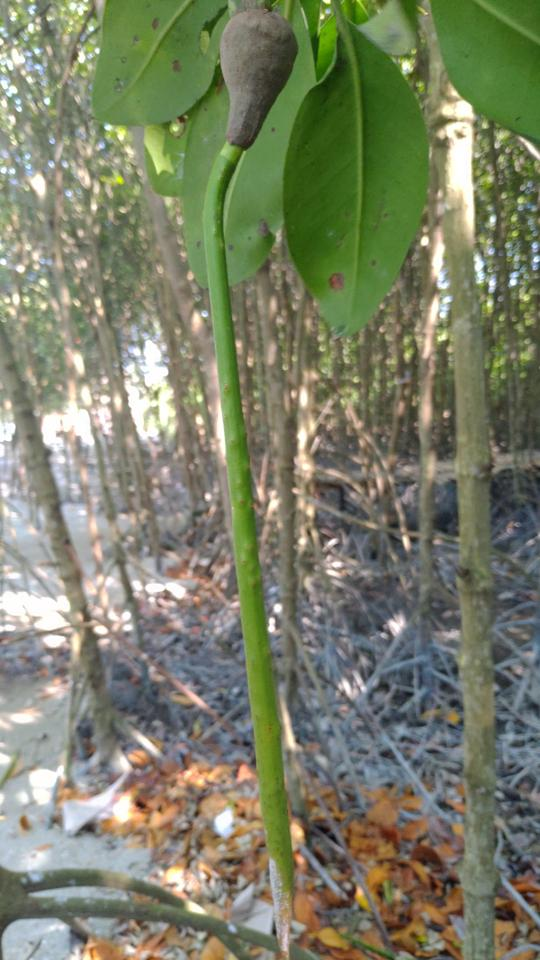setengah matang: (196, 4, 341, 944)
